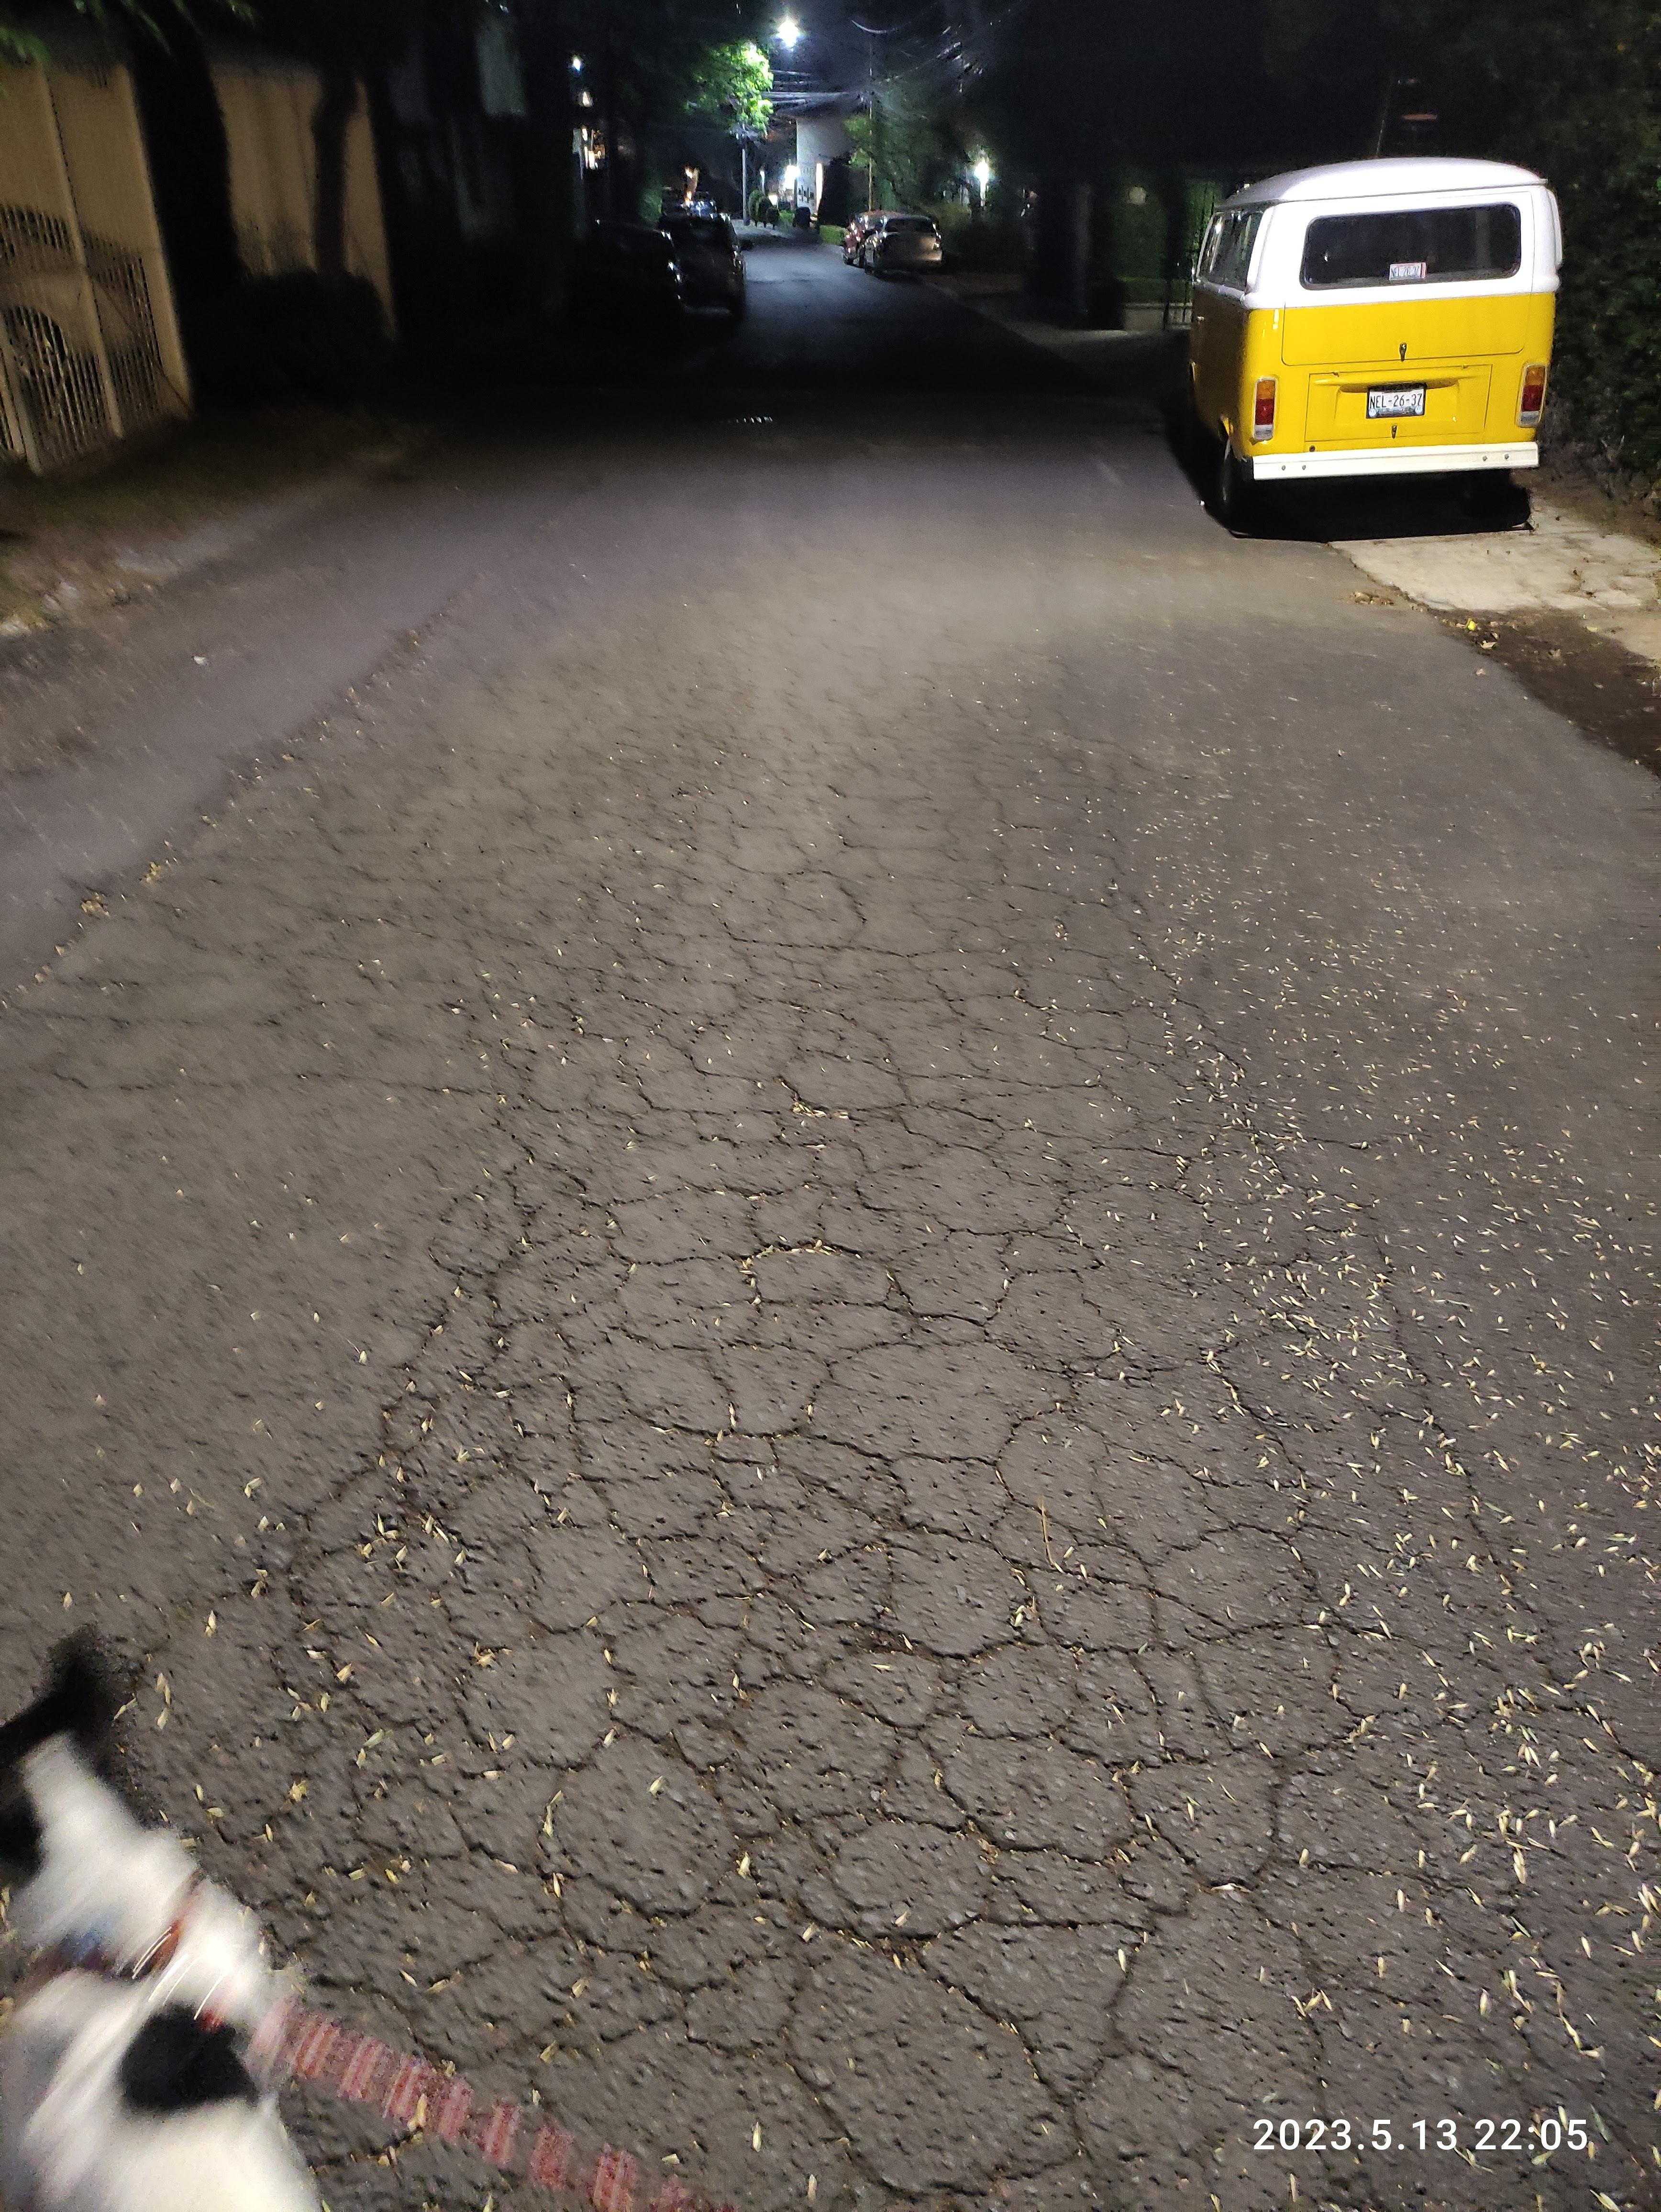alligator-crack: (330, 733, 1624, 2212)
